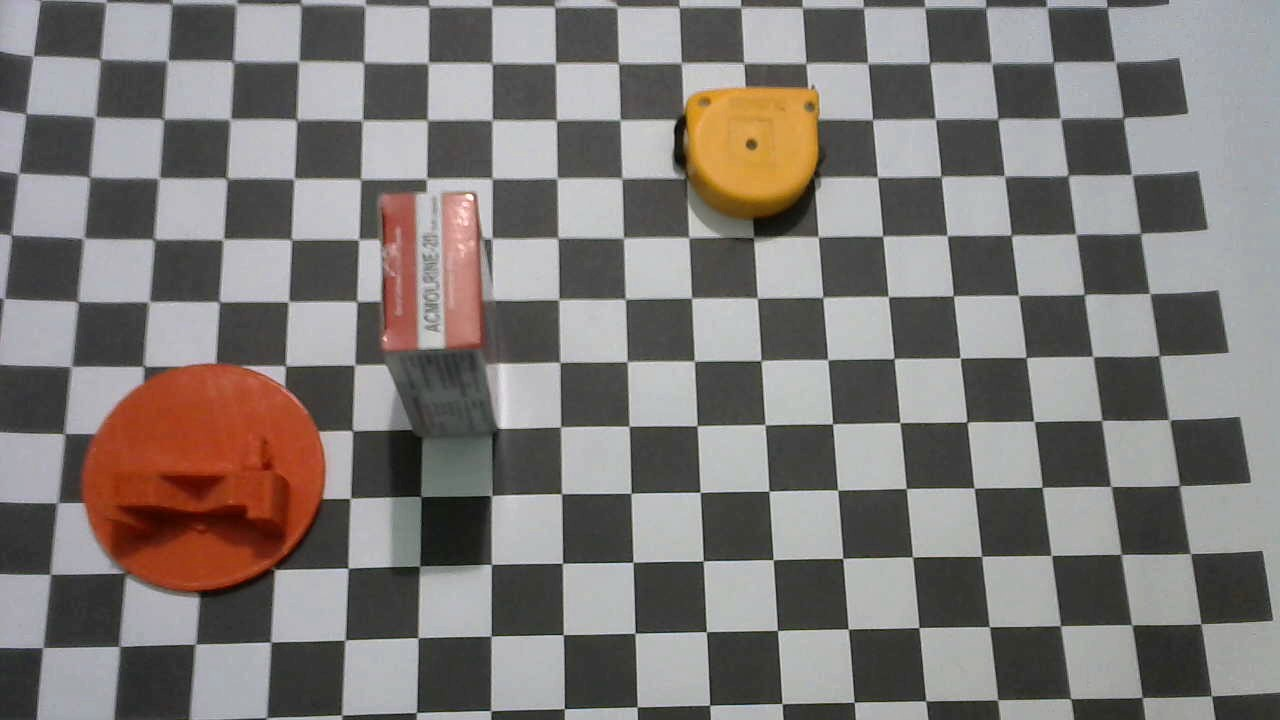blue: (673, 85, 824, 217)
green: (81, 364, 327, 593)
red: (375, 191, 503, 442)
